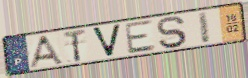A: (27, 33, 66, 69)
E: (123, 18, 158, 56)
I: (196, 10, 212, 45)
S: (156, 15, 188, 50)
T: (62, 27, 88, 64)
V: (90, 23, 124, 59)
